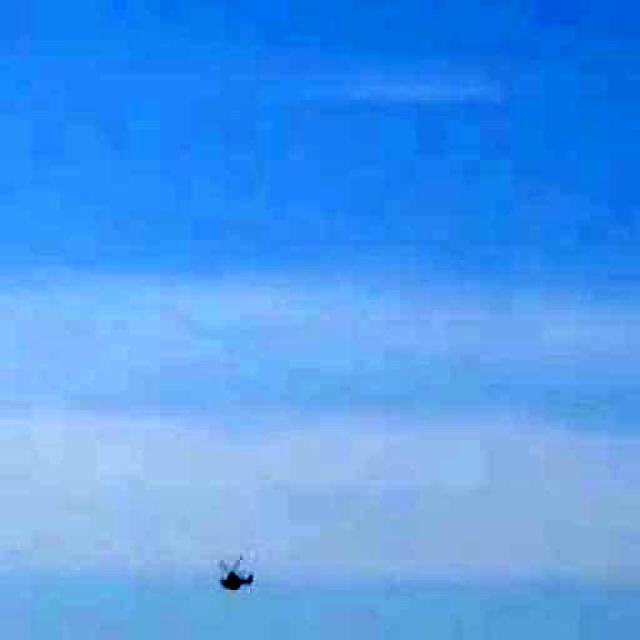drone: (194, 534, 276, 616)
